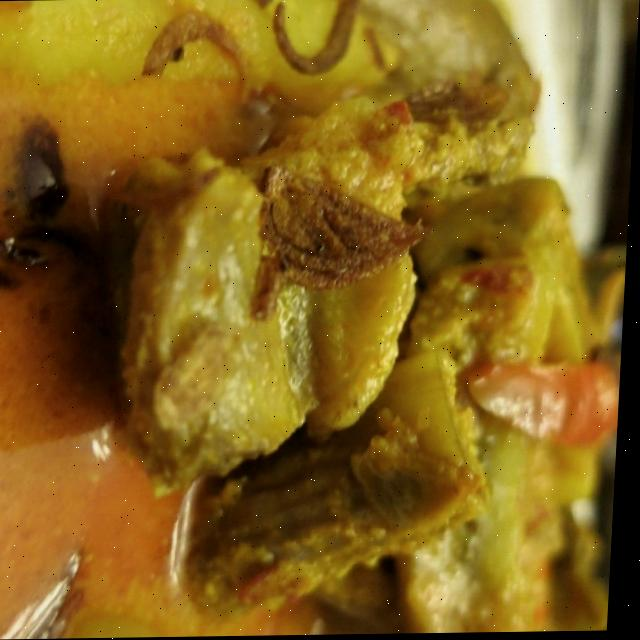熟制海鲜: (3, 3, 623, 630)
